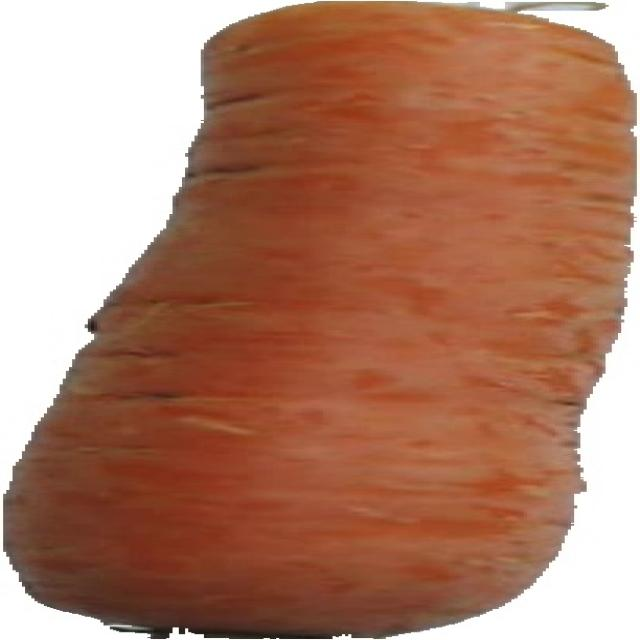carrot: (8, 2, 632, 636)
